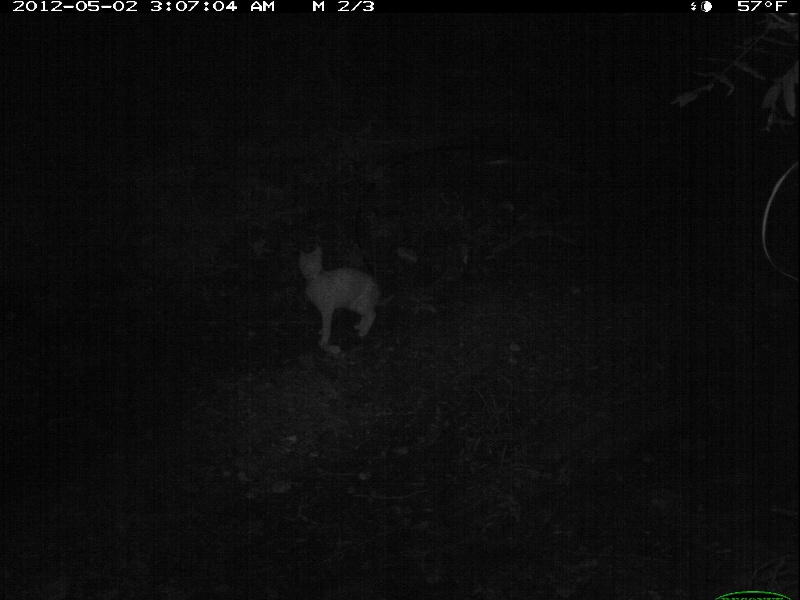cat: (294, 244, 390, 341)
